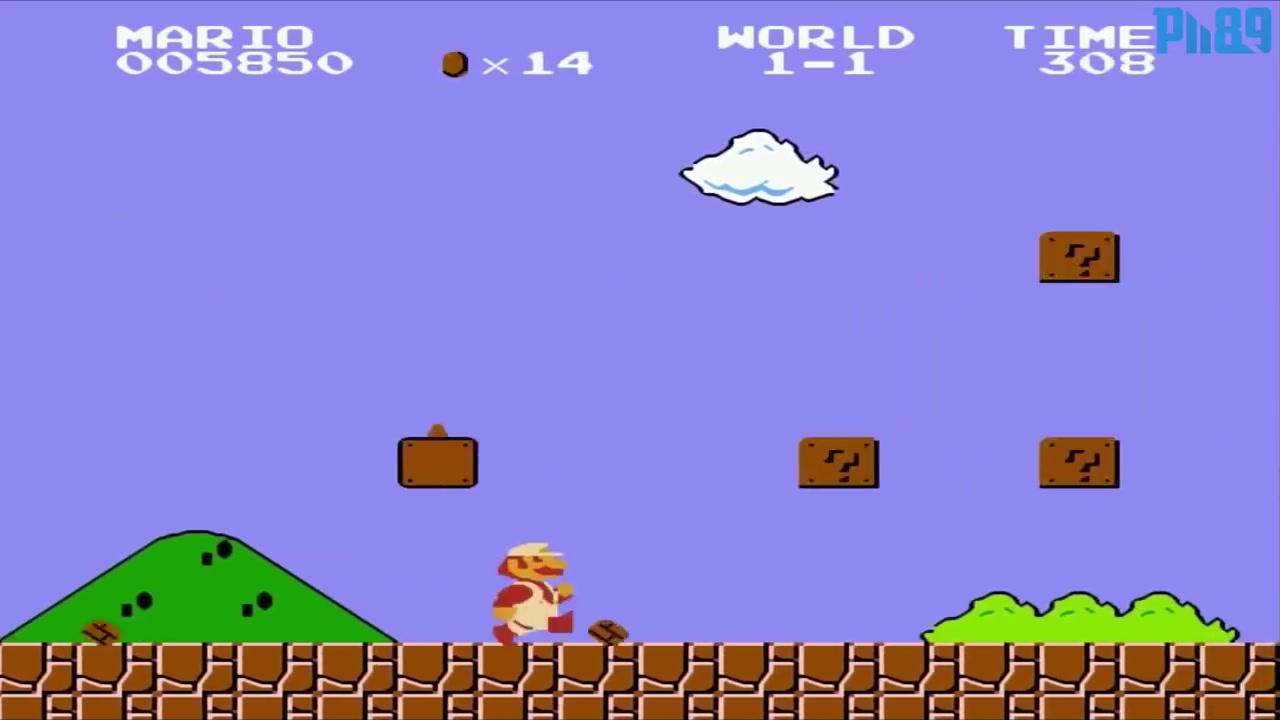mario: (485, 536, 579, 645)
